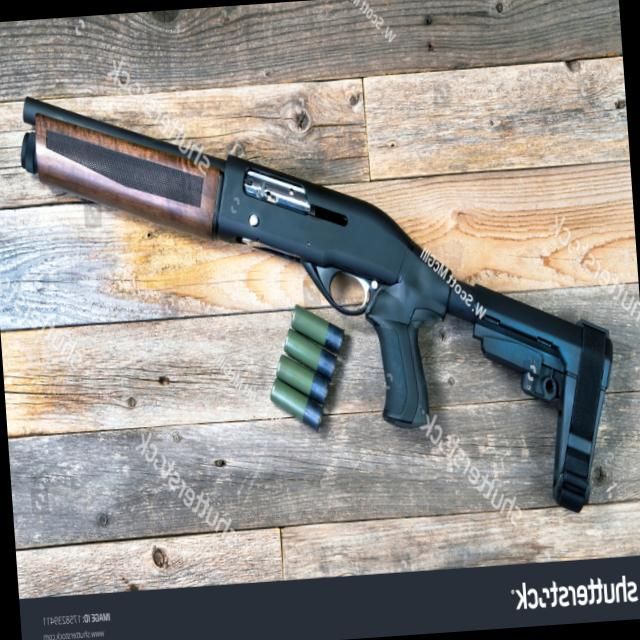Weapon: (4, 42, 626, 569)
